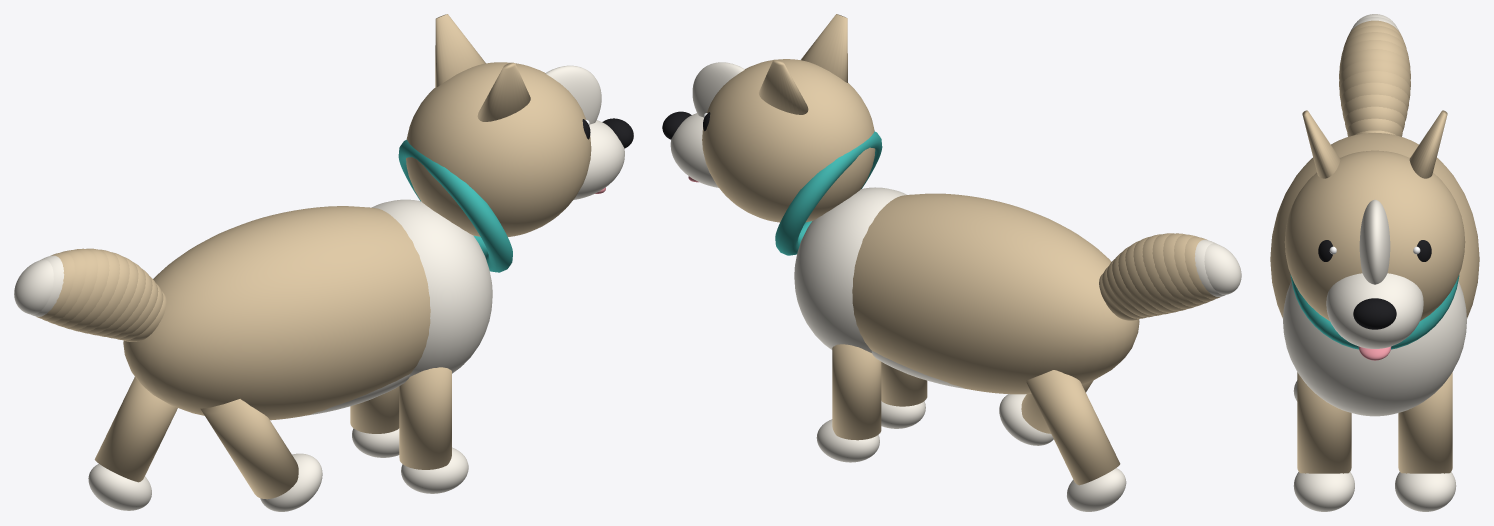
Rendered from canaan.glb.
3 renders of one model, left to right at view 1: azimuth 30°, elevation 25°; view 2: azimuth 150°, elevation 25°; view 3: azimuth 270°, elevation 25°, orthographic. The views are drawn at different scales.
Parts seen in each view (by area): view 1: Body, Head, Chest, Leg3, Leg1, Leg2, Collar, Muzzle, Ear1, Paw2, Ear-1, Leg0 (+13 smaller); view 2: Body, Head, Chest, Leg2, Leg0, Collar, Muzzle, Ear-1, Paw2, Ear1, Leg1, Paw0 (+12 smaller); view 3: Head, Chest, Body, Muzzle, Leg0, Leg1, Blaze, Paw0, Paw1, Collar, Ear1, Ear-1 (+15 smaller).
Part boxes in pixels (box(x1,y1,x2,y2)): Body: box(123, 206, 430, 420); Head: box(406, 62, 591, 236); Chest: box(372, 199, 492, 376); Leg3: box(200, 399, 298, 499); Leg1: box(399, 367, 451, 469); Leg2: box(94, 377, 177, 482); Collar: box(398, 139, 512, 272); Muzzle: box(573, 120, 624, 199); Ear1: box(435, 14, 485, 87); Paw2: box(88, 464, 151, 510); Ear-1: box(477, 62, 530, 121); Leg0: box(350, 386, 399, 433); Body: box(852, 193, 1139, 394); Head: box(702, 59, 875, 222); Chest: box(794, 187, 906, 352); Leg2: box(1026, 370, 1120, 485); Leg0: box(832, 344, 881, 440); Collar: box(775, 131, 882, 255); Muzzle: box(670, 113, 718, 187); Ear-1: box(800, 14, 847, 82); Paw2: box(1067, 468, 1126, 511); Ear1: box(758, 59, 808, 114); Leg1: box(881, 362, 927, 406); Paw0: box(816, 419, 879, 462); Head: box(1284, 150, 1465, 321); Chest: box(1283, 281, 1466, 416); Body: box(1270, 133, 1479, 318); Muzzle: box(1326, 273, 1423, 348); Leg0: box(1398, 372, 1452, 473); Leg1: box(1297, 372, 1351, 473); Blaze: box(1359, 199, 1390, 284); Paw0: box(1395, 472, 1456, 511); Paw1: box(1293, 472, 1354, 511); Collar: box(1290, 274, 1459, 349); Ear1: box(1409, 110, 1447, 178); Ear-1: box(1302, 110, 1340, 178).
Size of the model in its own units: 2.02 by 1.31 by 0.58.
